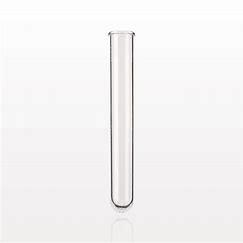Test tube: (105, 32, 138, 212)
